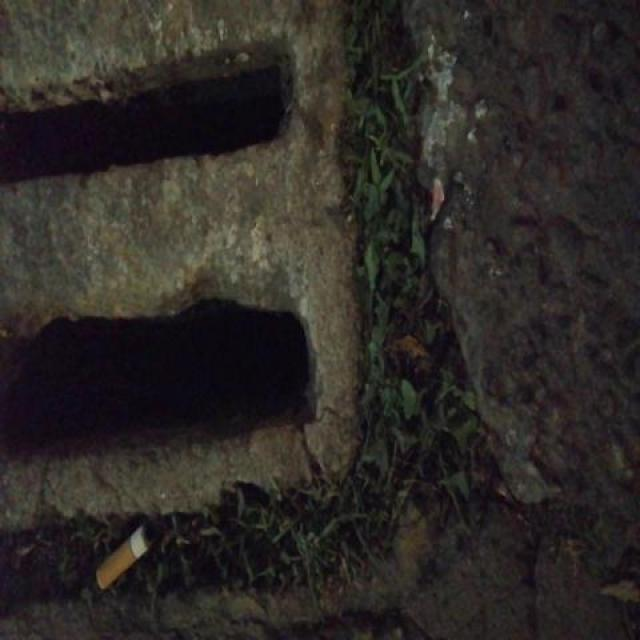non-organic waste: (92, 522, 153, 595)
